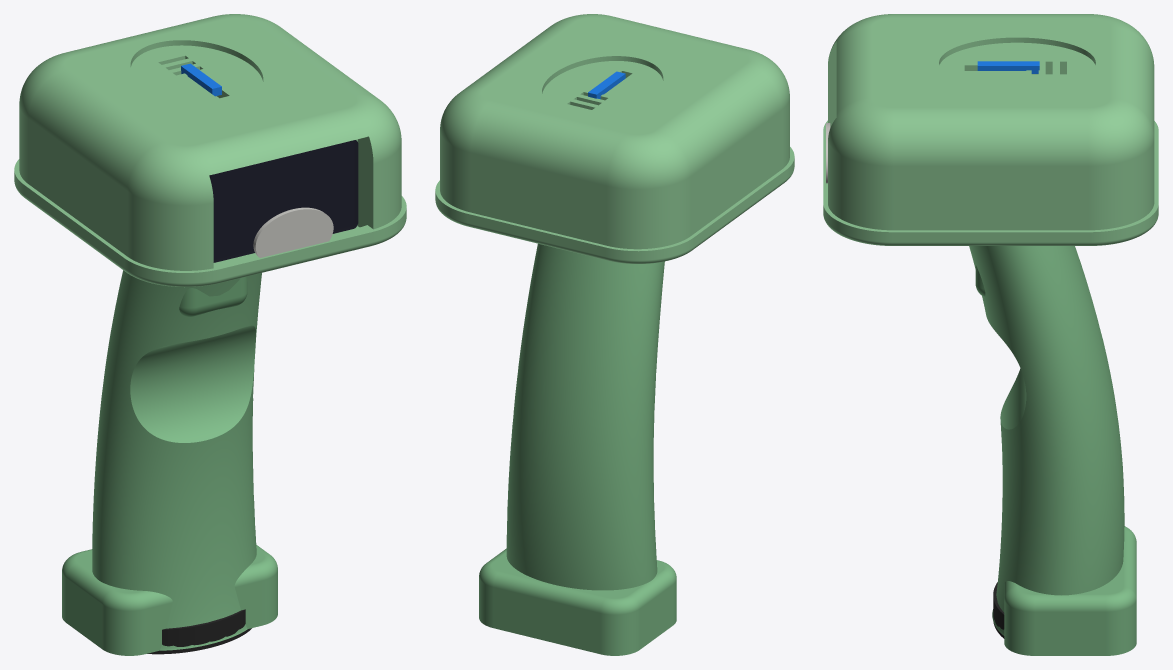
File: scanner.glb
The picture shows the model from 3 angles, left to right: view 1: azimuth 30°, elevation 25°; view 2: azimuth 150°, elevation 25°; view 3: azimuth 270°, elevation 25°; orthographic projection. The views are drawn at different scales.
Visible parts, largest first — view 1: scan_head, grip, scan_window, head_lip, brand_logo, cable_guard, trigger, led_indicator; view 2: scan_head, grip, head_lip; view 3: scan_head, grip, head_lip, led_indicator.
Boxes of the visible parts, box(x1,y1,x2,y2) form: scan_head: box(19, 14, 401, 270); grip: box(62, 270, 277, 655); scan_window: box(209, 140, 358, 262); head_lip: box(14, 159, 406, 287); brand_logo: box(253, 207, 333, 257); cable_guard: box(147, 609, 251, 654); trigger: box(179, 277, 247, 316); led_indicator: box(181, 63, 221, 96); scan_head: box(440, 14, 789, 249); grip: box(479, 243, 676, 655); head_lip: box(435, 147, 794, 263); scan_head: box(828, 14, 1154, 230); grip: box(969, 246, 1136, 655); head_lip: box(823, 120, 1158, 245); led_indicator: box(977, 61, 1039, 73).
Size of the model in its own units: 70 by 139 by 76.
